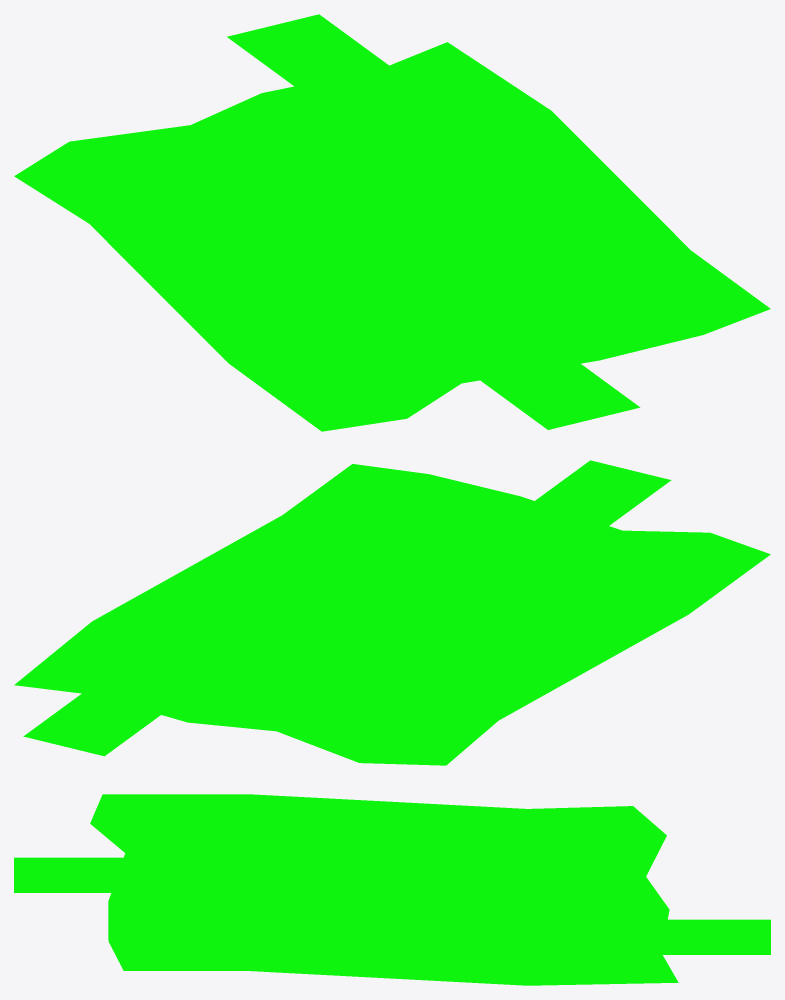
File: s05b_ib1-floor.glb
3 renders of one model, top to bottom at view 1: azimuth 30°, elevation 25°; view 2: azimuth 150°, elevation 25°; view 3: azimuth 270°, elevation 25°, orthographic. The views are drawn at different scales.
Visible parts, largest first — view 1: collision_floor-colonly; view 2: collision_floor-colonly; view 3: collision_floor-colonly.
Boxes of the visible parts, box(x1,y1,x2,y2) form: collision_floor-colonly: box(14, 14, 770, 431); collision_floor-colonly: box(14, 460, 770, 765); collision_floor-colonly: box(14, 794, 770, 985).
Bounding box in the file's own units: 32.5 × 0.1016 × 54.29.
